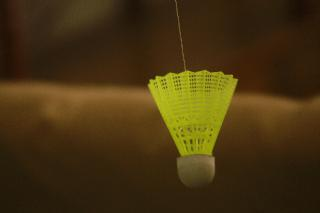shuttlecock: (146, 69, 238, 186)
